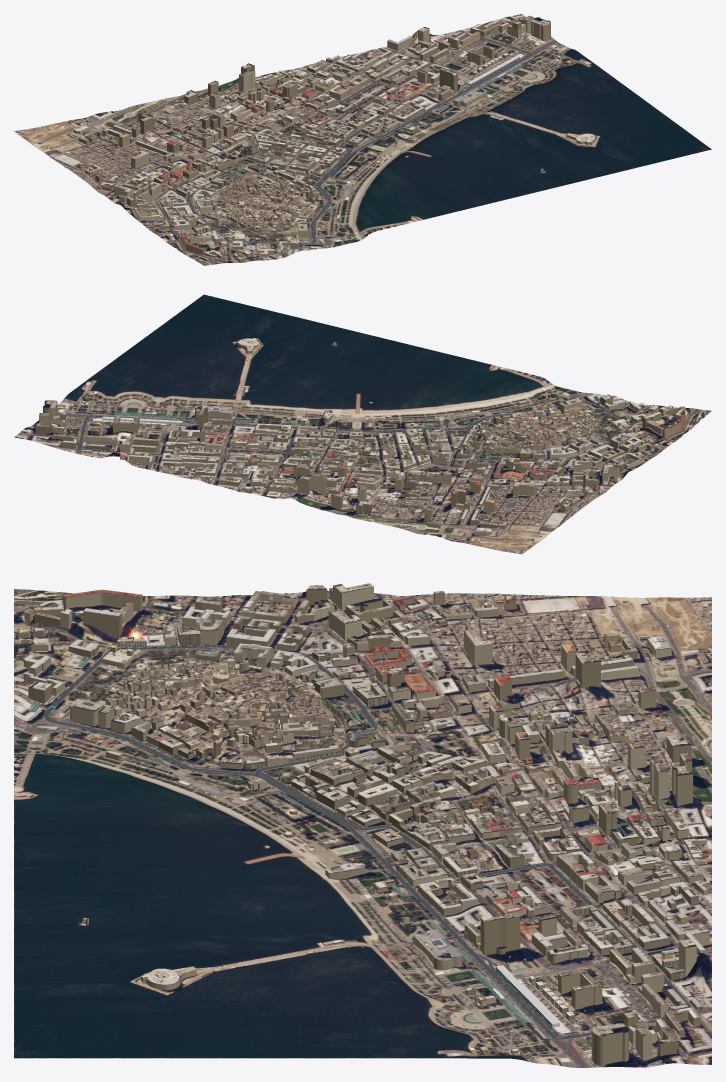
The model's file is baku.glb.
3 views of the same model, one above another, from view 1: azimuth 30°, elevation 25°; view 2: azimuth 150°, elevation 25°; view 3: azimuth 270°, elevation 25° (orthographic). The views are drawn at different scales.
Visible parts, largest first — view 1: Baku_GEDTM_Terrain, Baku_OSM_Permanent_Buildings, Baku_Circuit_Surface, Baku_Roadside_Safety_Walls, Baku_Mapped_Trees, Baku_Event_Grandstands; view 2: Baku_GEDTM_Terrain, Baku_OSM_Permanent_Buildings, Baku_Circuit_Surface, Baku_Event_Grandstands, Baku_Roadside_Safety_Walls, Baku_Mapped_Trees; view 3: Baku_GEDTM_Terrain, Baku_OSM_Permanent_Buildings, Baku_Circuit_Surface, Baku_Roadside_Safety_Walls, Baku_Event_Grandstands, Baku_Mapped_Trees, Baku_44_Pit_Service_Bays.
Boxes of the visible parts, x1,y1,x2,y2 form: Baku_GEDTM_Terrain: (14, 14, 711, 265); Baku_OSM_Permanent_Buildings: (40, 15, 595, 261); Baku_Circuit_Surface: (187, 37, 532, 244); Baku_Roadside_Safety_Walls: (187, 36, 532, 244); Baku_Mapped_Trees: (153, 43, 562, 200); Baku_Event_Grandstands: (228, 63, 524, 248); Baku_GEDTM_Terrain: (14, 294, 711, 554); Baku_OSM_Permanent_Buildings: (35, 338, 687, 542); Baku_Circuit_Surface: (77, 401, 633, 461); Baku_Event_Grandstands: (114, 397, 631, 458); Baku_Roadside_Safety_Walls: (76, 401, 633, 461); Baku_Mapped_Trees: (68, 400, 516, 514); Baku_GEDTM_Terrain: (14, 589, 711, 1067); Baku_OSM_Permanent_Buildings: (17, 583, 710, 1065); Baku_Circuit_Surface: (44, 645, 691, 1039); Baku_Roadside_Safety_Walls: (43, 644, 697, 1040); Baku_Event_Grandstands: (29, 656, 529, 1023); Baku_Mapped_Trees: (226, 687, 671, 1053); Baku_44_Pit_Service_Bays: (496, 965, 559, 1027).
Bounding box in the file's own units: 2470 × 115 × 1600.
Materials: 18 (2 with a texture image).
